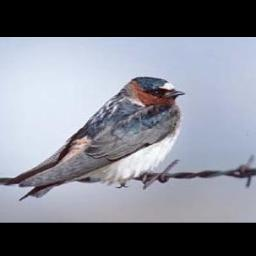Swallow: (4, 75, 183, 204)
